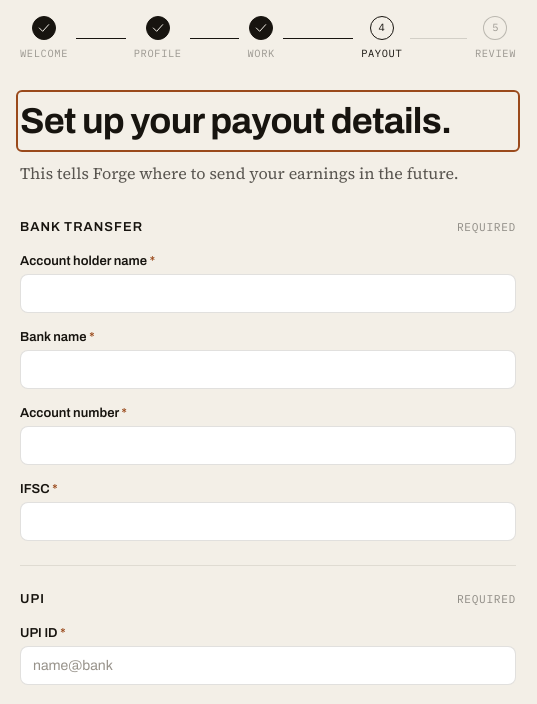
Scenario: PayoutStep — K10 IFSC resolution › shows no mismatch warning when the bank name matches the resolved bank
In the dropdown labelled "Bank name *": (268, 369) x1=20 y1=350 x2=516 y2=389, type "HDFC Bank"
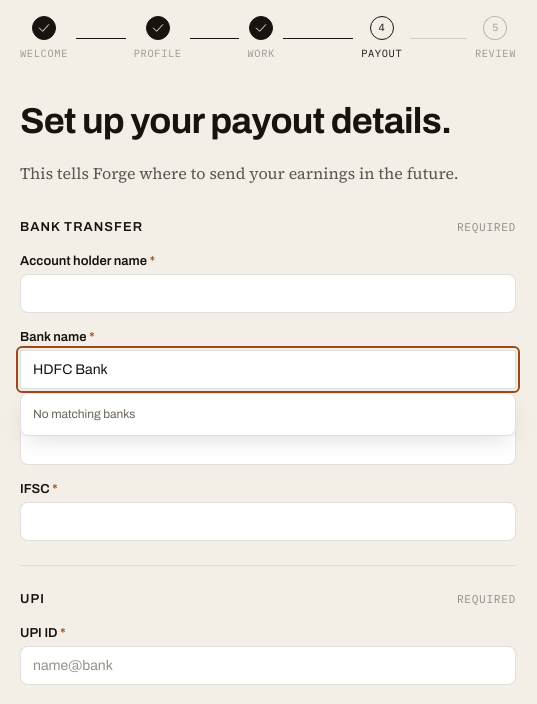
In the field labelled "IFSC *": (268, 521) x1=20 y1=502 x2=516 y2=541, type "HDFC0001234"
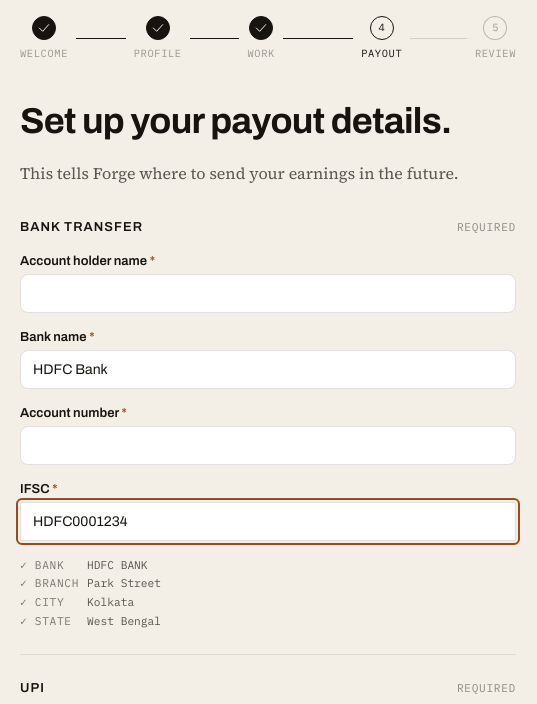
Result: the text "Park Street" is shown at x1=87 y1=576 x2=161 y2=590
